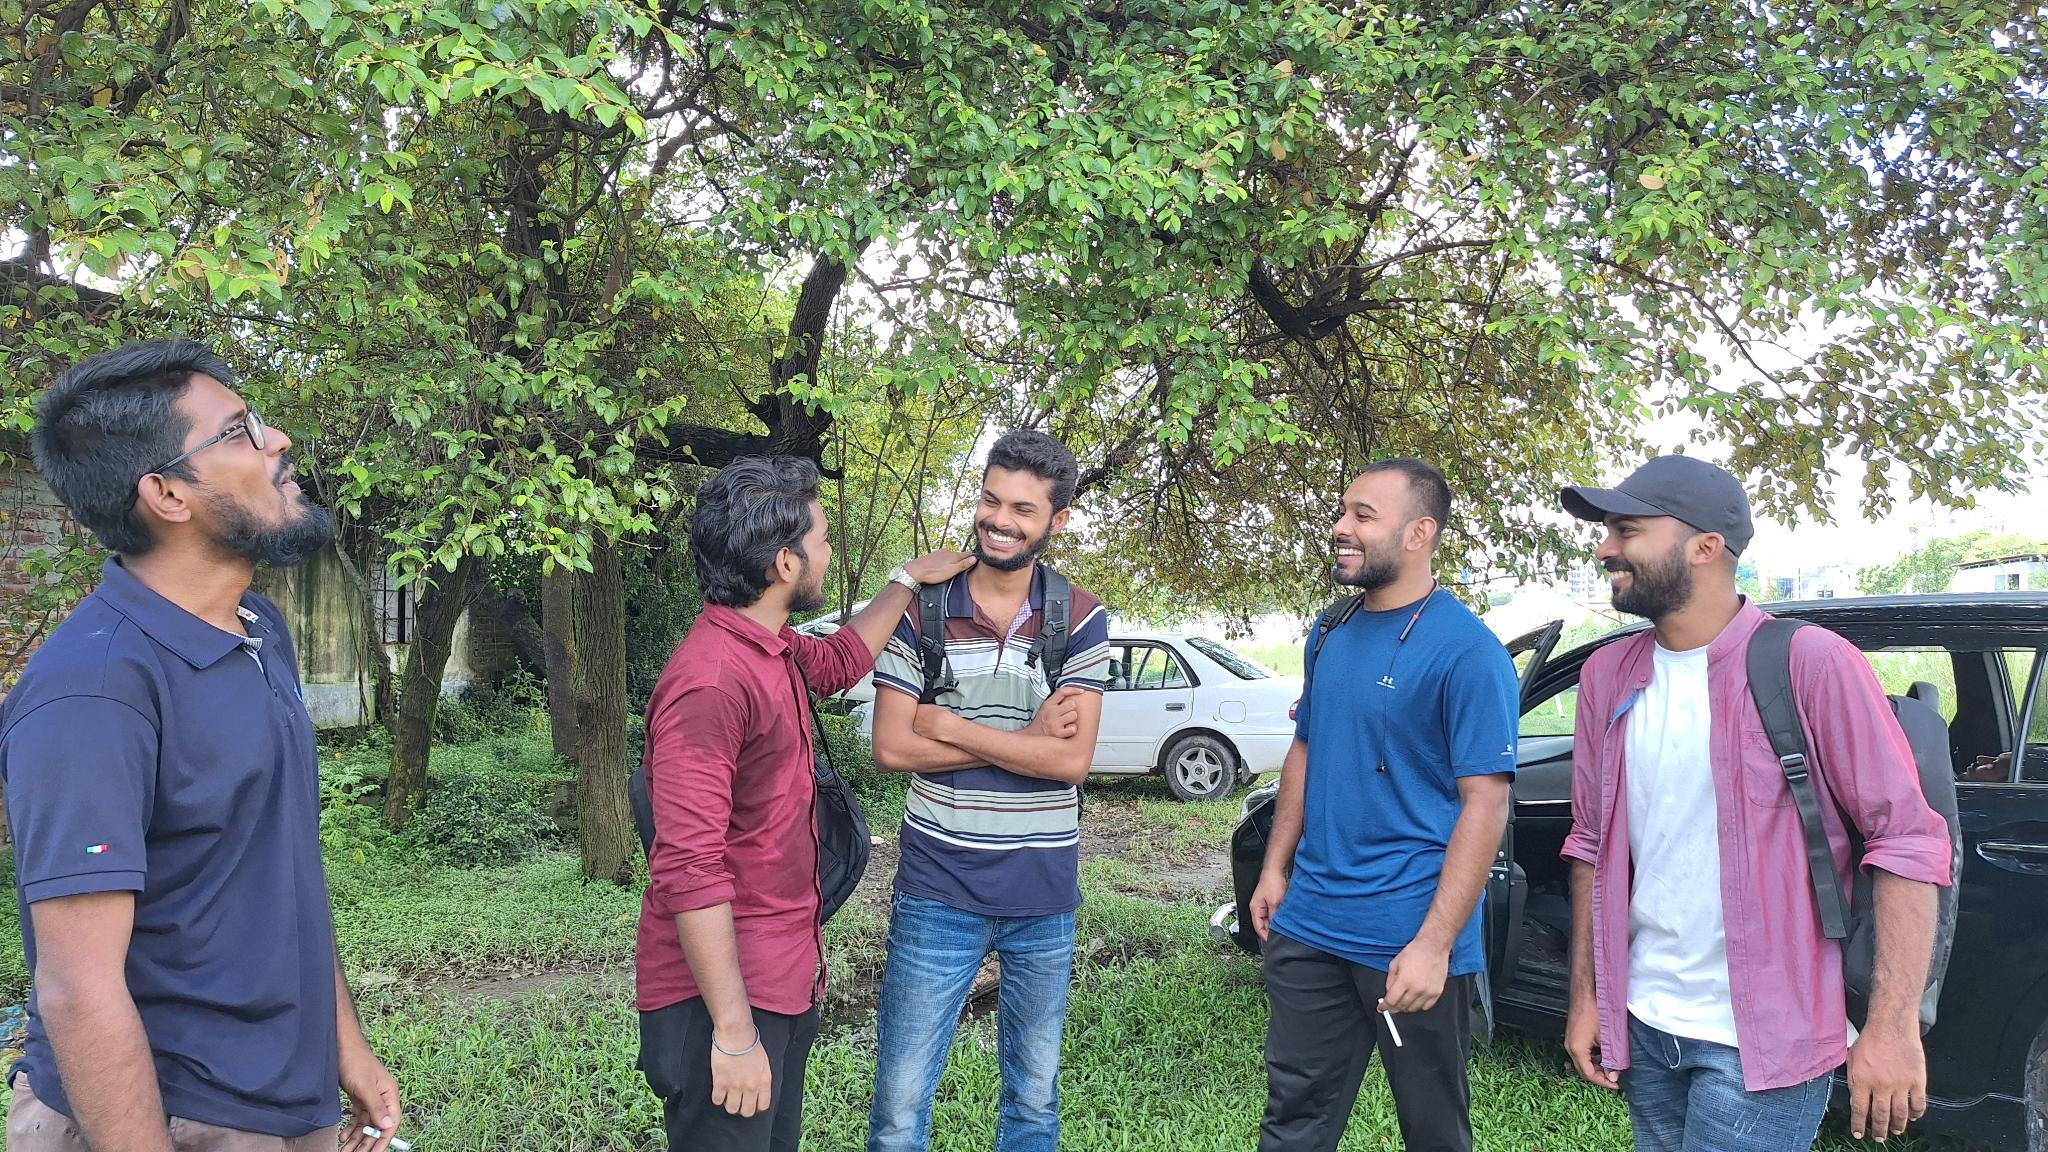cigarette: (1376, 996, 1405, 1052), (359, 1124, 414, 1152)
nonSmoker: (1559, 454, 1964, 1152), (627, 457, 978, 1152), (871, 429, 1108, 1152)
smoker: (0, 340, 402, 1152), (1249, 459, 1519, 1152)
